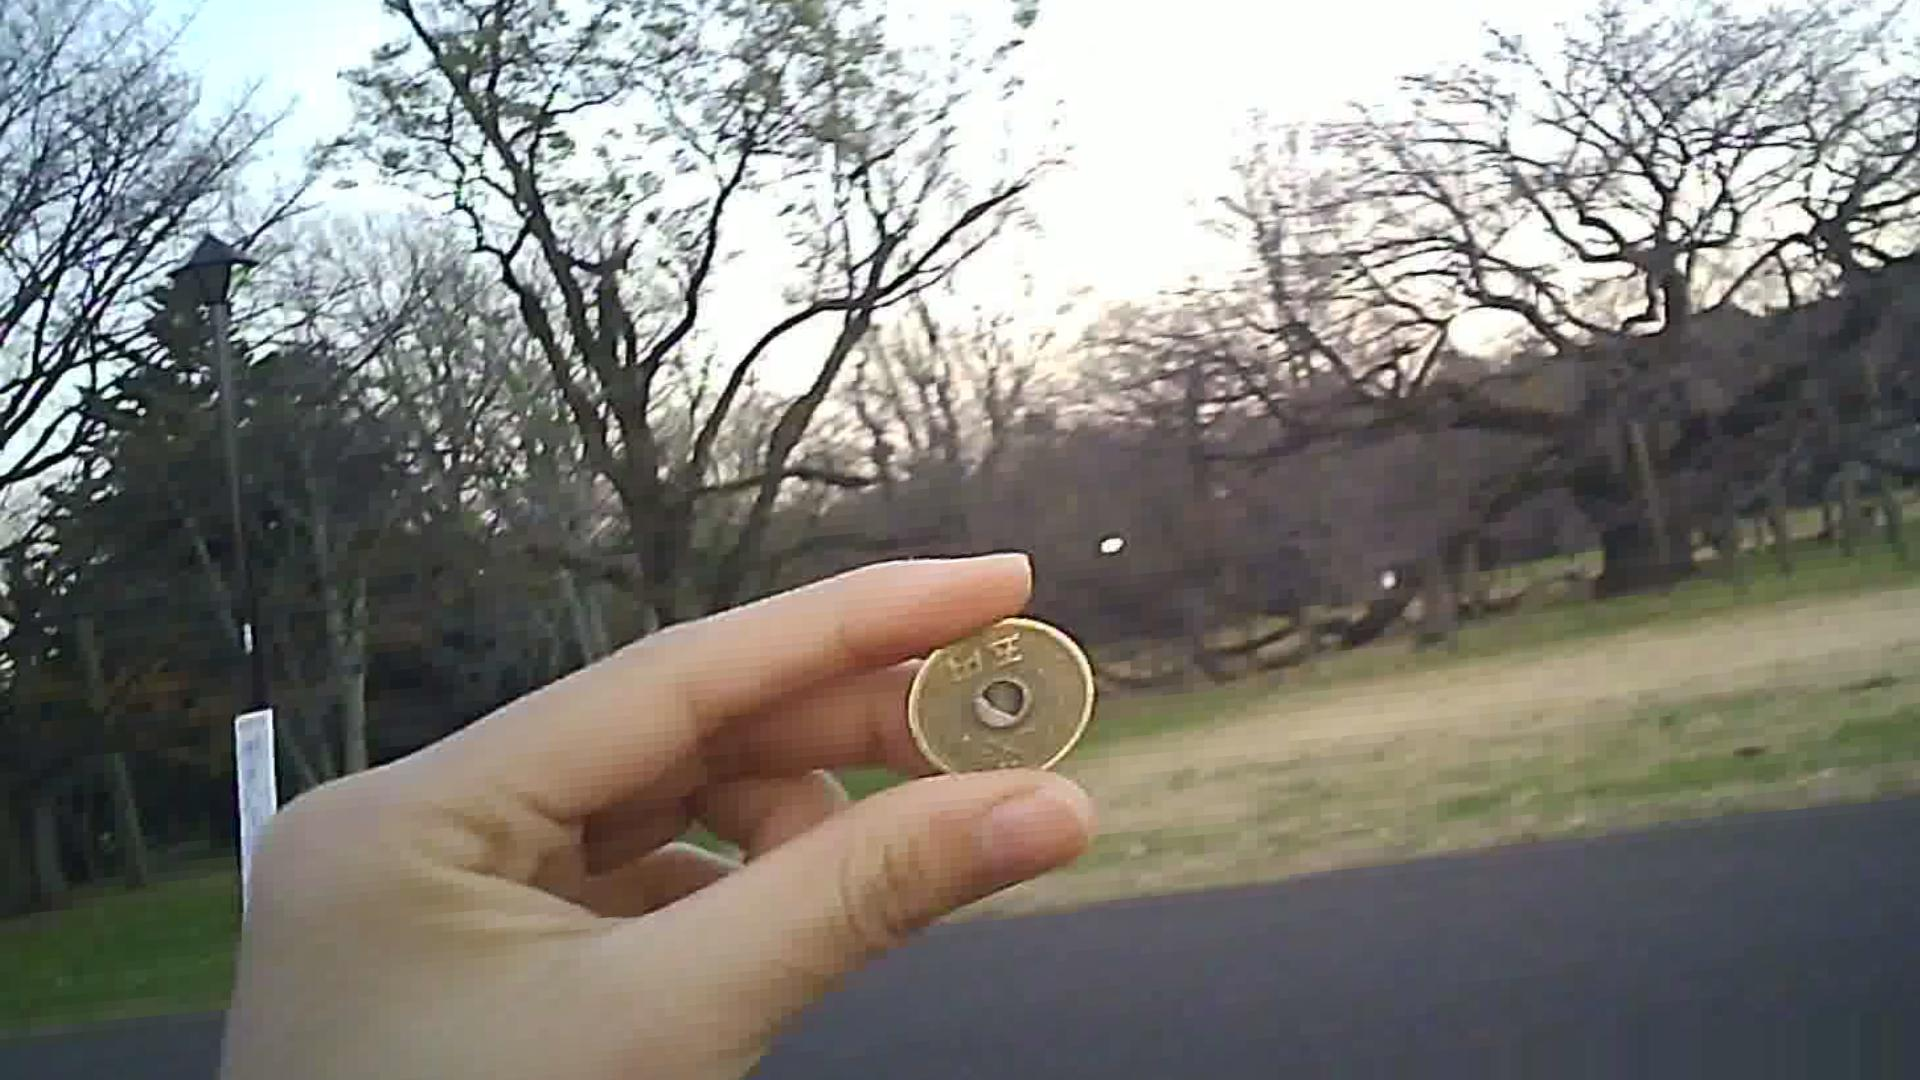5 Yen: (901, 607, 1106, 774)
